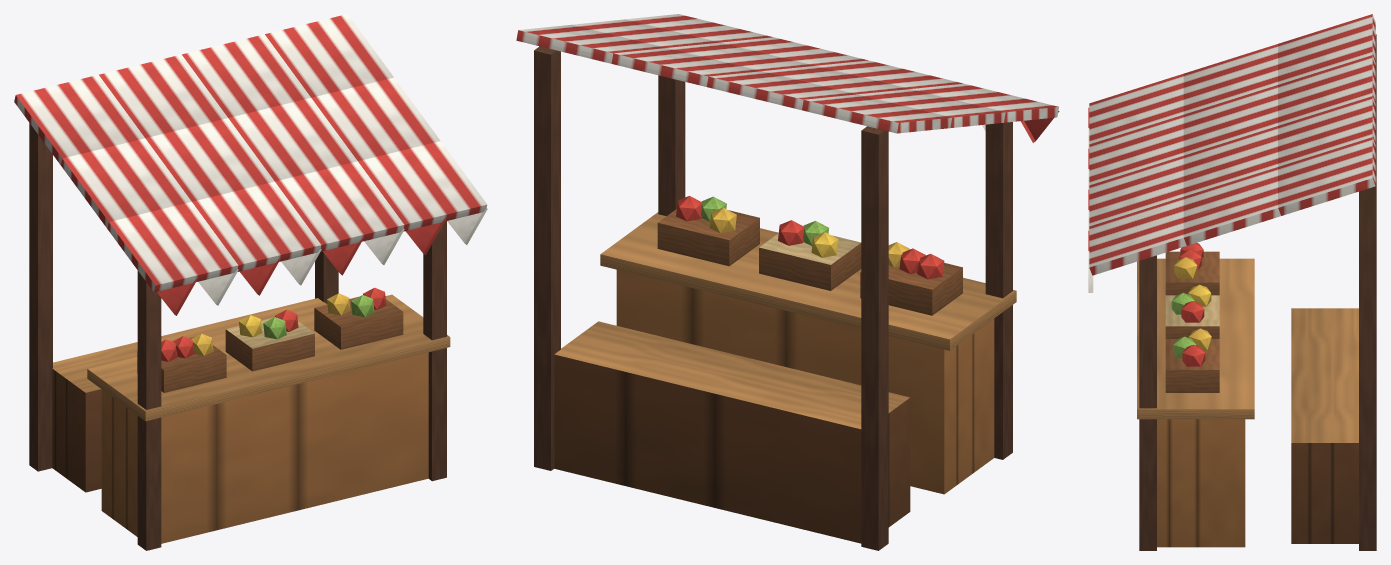
File: prop_market_stall_01.glb
3 renders of one model, left to right at view 1: azimuth 30°, elevation 25°; view 2: azimuth 150°, elevation 25°; view 3: azimuth 270°, elevation 25°, orthographic. The views are drawn at different scales.
Visible parts, largest first — view 1: prop_market_stall_01; view 2: prop_market_stall_01; view 3: prop_market_stall_01.
Part boxes in pixels (x1,y1,x2,y2): prop_market_stall_01: [14, 14, 487, 550]; prop_market_stall_01: [516, 14, 1059, 550]; prop_market_stall_01: [1088, 14, 1376, 550].
Size of the model in its own units: 2.44 by 2.64 by 1.81.
Materials: 1 (1 with a texture image).
